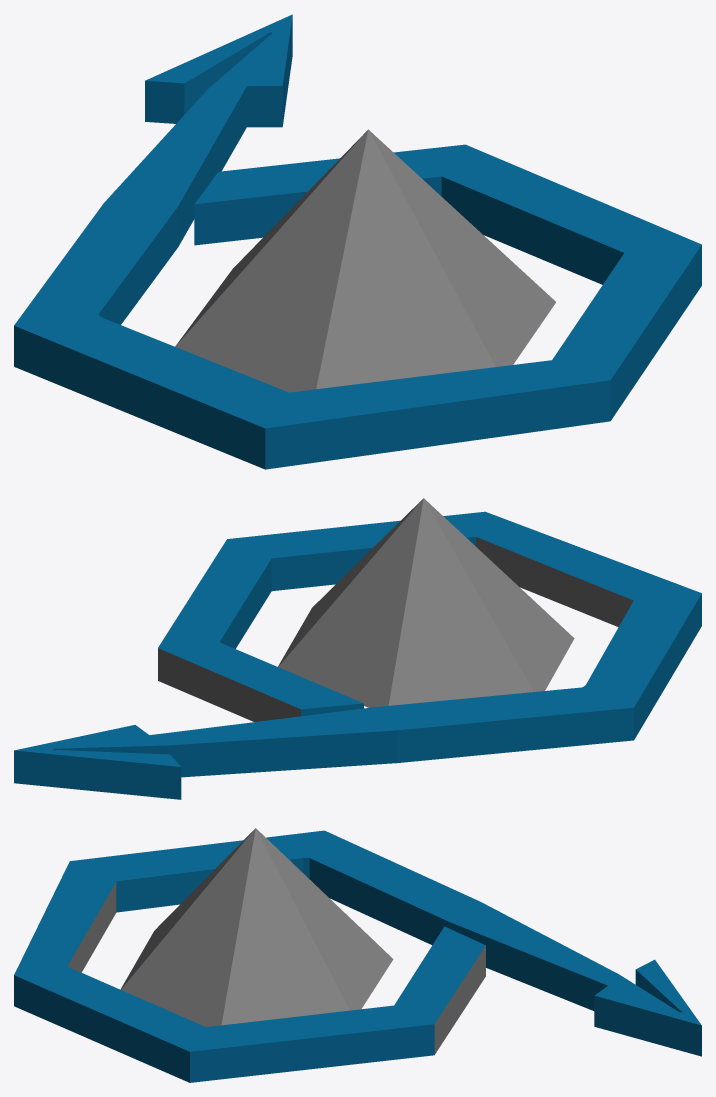
Rendered from Vslet.gltf.
3 renders of one model, top to bottom at view 1: azimuth 30°, elevation 25°; view 2: azimuth 150°, elevation 25°; view 3: azimuth 270°, elevation 25°, orthographic. The views are drawn at different scales.
Visible parts, largest first — view 1: root; view 2: root; view 3: root.
Boxes of the visible parts, <box> form: root: <box>14,14,701,469</box>; root: <box>14,498,701,799</box>; root: <box>14,828,701,1082</box>.
Bounding box in the file's own units: 0.4029 × 0.1254 × 0.5293.
